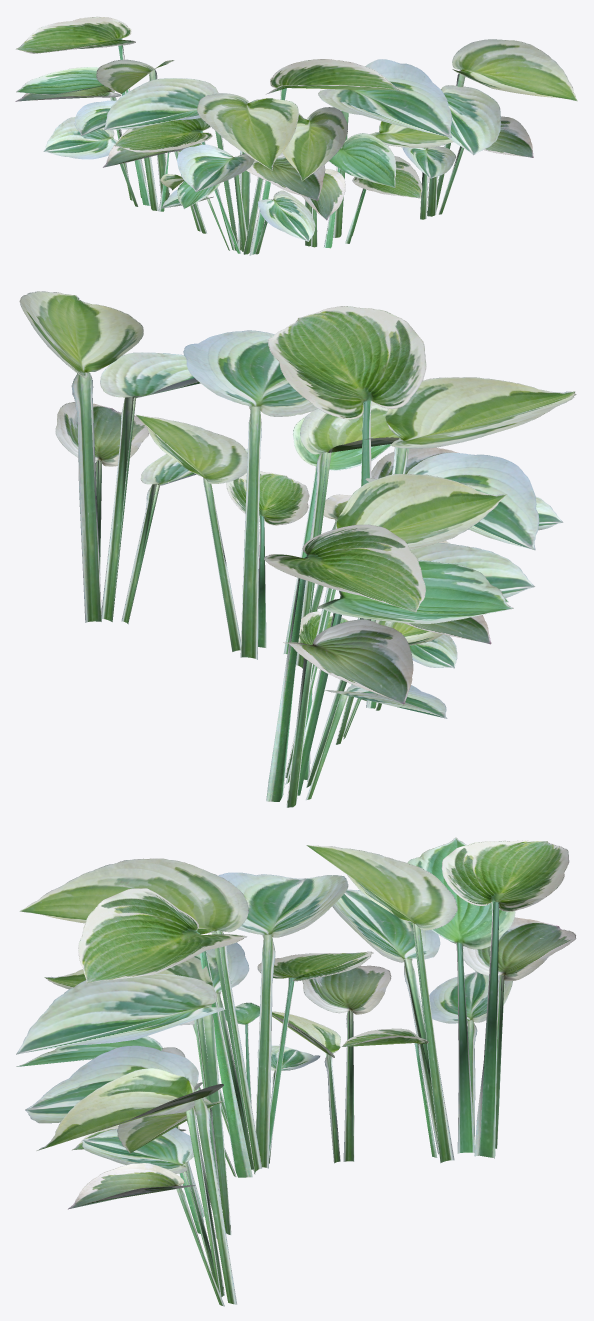
The model's file is plant_small_wg_00_o-corner01.fbx.
3 views of the same model, one above another, from view 1: azimuth 30°, elevation 25°; view 2: azimuth 150°, elevation 25°; view 3: azimuth 270°, elevation 25° (orthographic). The views are drawn at different scales.
Visible parts, largest first — view 1: plant_small_wg_00_o-corner01; view 2: plant_small_wg_00_o-corner01; view 3: plant_small_wg_00_o-corner01.
Part boxes in pixels (<box>): plant_small_wg_00_o-corner01: <box>15,16,577,255</box>; plant_small_wg_00_o-corner01: <box>19,291,576,807</box>; plant_small_wg_00_o-corner01: <box>16,837,576,1306</box>.
Size of the model in its own units: 97.17 by 42.51 by 74.63.
Materials: 1 (1 with a texture image).
